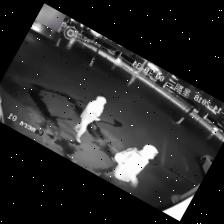person: (99, 144, 157, 187), (73, 96, 105, 143)
